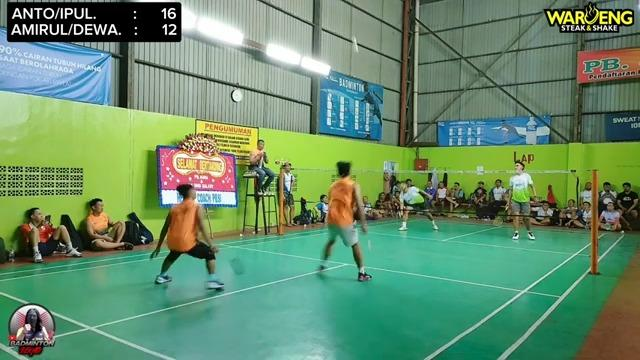Shuttlecock: (350, 35, 362, 53)
